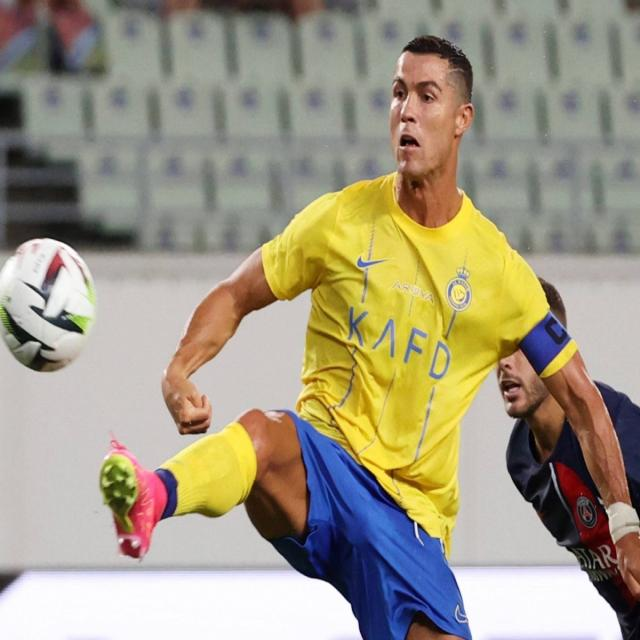nike: (353, 247, 388, 273)
